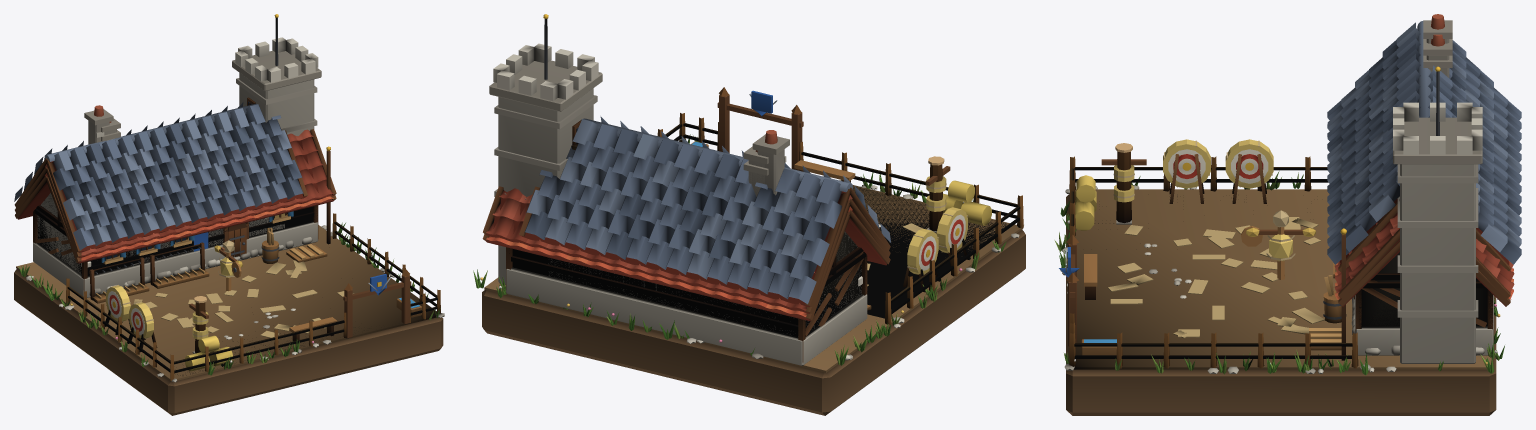
Rendered from barracks.glb.
The picture shows the model from 3 angles, left to right: view 1: azimuth 30°, elevation 25°; view 2: azimuth 150°, elevation 25°; view 3: azimuth 270°, elevation 25°; orthographic projection. The views are drawn at different scales.
Visible parts, largest first — view 1: barracks_l1, barracks_l3, barracks_l2, barracks_part_dummy; view 2: barracks_l3, barracks_l1, barracks_l2; view 3: barracks_l1, barracks_l3, barracks_l2, barracks_part_dummy.
Boxes of the visible parts, x1,y1,x2,y2 form: barracks_l1: (14,130,444,415); barracks_l3: (14,14,428,382); barracks_l2: (15,118,421,368); barracks_part_dummy: (214,240,242,291); barracks_l3: (473,14,1023,360); barracks_l1: (480,87,1025,415); barracks_l2: (483,141,1006,365); barracks_l1: (1059,55,1513,415); barracks_l3: (1054,14,1521,375); barracks_l2: (1060,34,1514,374); barracks_part_dummy: (1241,210,1315,279).
Size of the model in its own units: 2.04 by 1.63 by 2.09.
